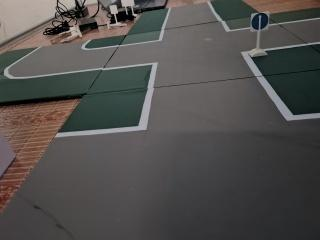straight: (246, 6, 275, 36)
